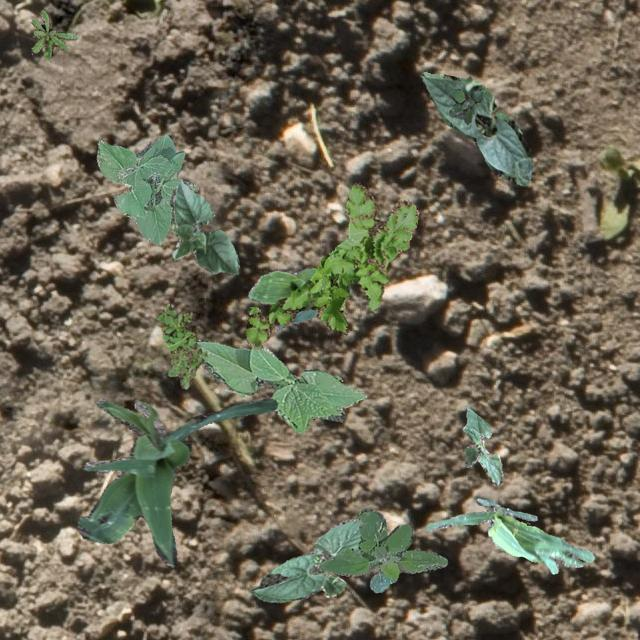crop: (78, 398, 276, 566), (194, 339, 366, 431), (419, 70, 532, 184), (426, 498, 594, 572), (96, 133, 198, 244), (252, 518, 360, 602), (168, 180, 238, 274), (248, 266, 324, 330), (462, 406, 502, 484)
weed: (245, 182, 418, 348), (319, 508, 446, 592), (156, 302, 206, 388), (29, 8, 78, 58), (448, 88, 484, 124)
